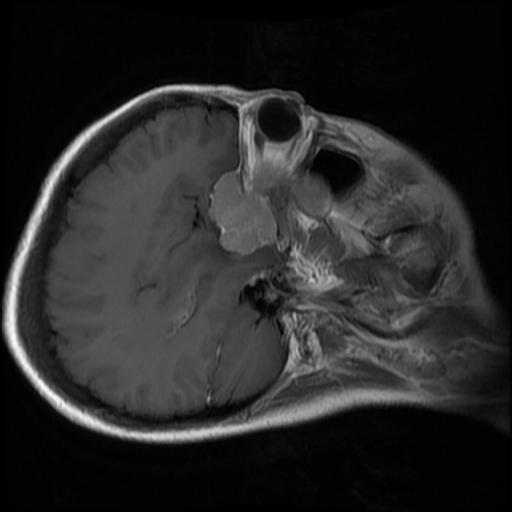meningioma: (207, 170, 276, 255)
